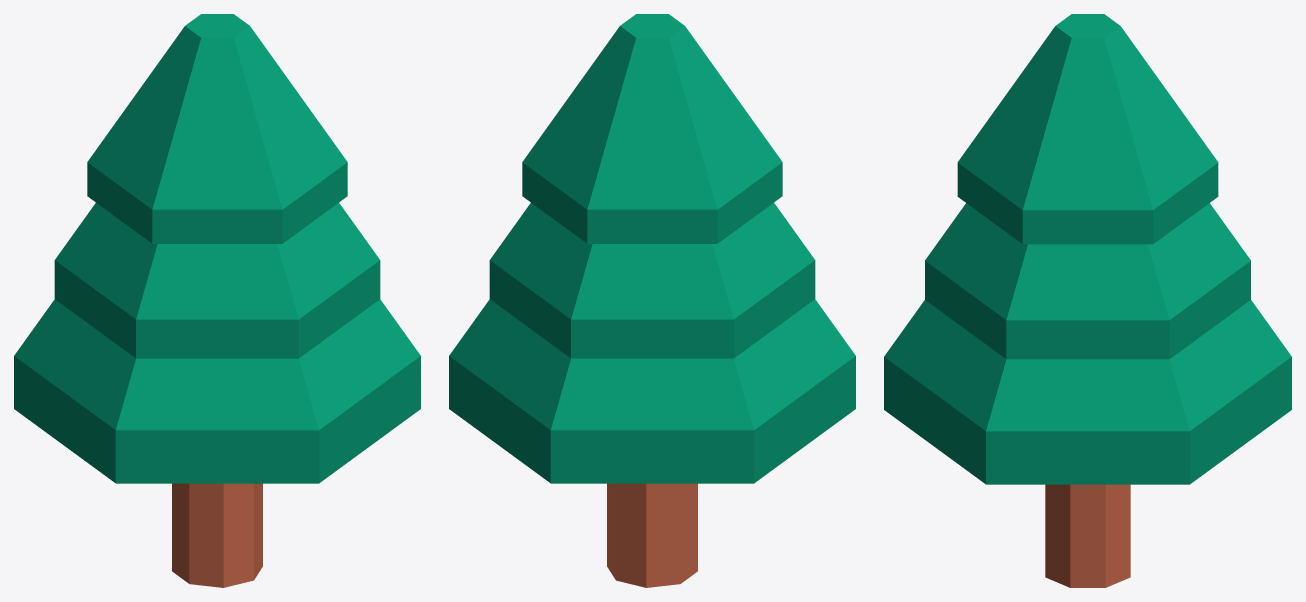
The model's file is tree.fbx.
3 views of the same model, side by side, from view 1: azimuth 30°, elevation 25°; view 2: azimuth 150°, elevation 25°; view 3: azimuth 270°, elevation 25° (orthographic).
Visible parts, largest first — view 1: leafs_pineA (×3), trunk; view 2: leafs_pineA (×3), trunk; view 3: leafs_pineA (×3), trunk.
Boxes of the visible parts, box(x1,y1,x2,y2) form: leafs_pineA (×3): box(14, 14, 420, 483); trunk: box(172, 483, 262, 587); leafs_pineA (×3): box(449, 14, 855, 483); trunk: box(607, 483, 697, 587); leafs_pineA (×3): box(884, 14, 1291, 484); trunk: box(1045, 484, 1130, 587).
Bounding box in the file's own units: 18 × 30.6 × 20.78.
